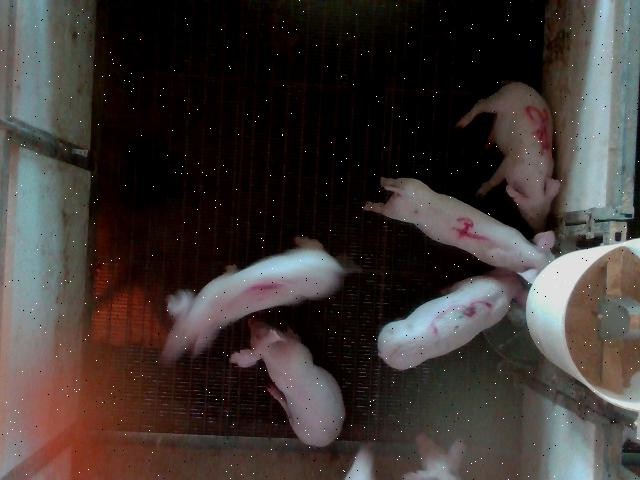pig-1: (161, 238, 342, 363)
pig-3: (378, 269, 528, 369)
pig-4: (364, 178, 555, 282)
pig-5: (456, 82, 560, 232)
